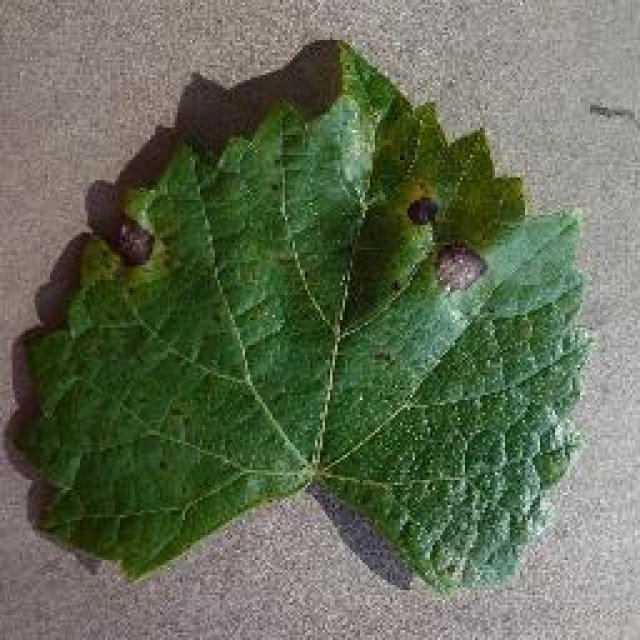Grape___Black_rot: (0, 29, 604, 606)
